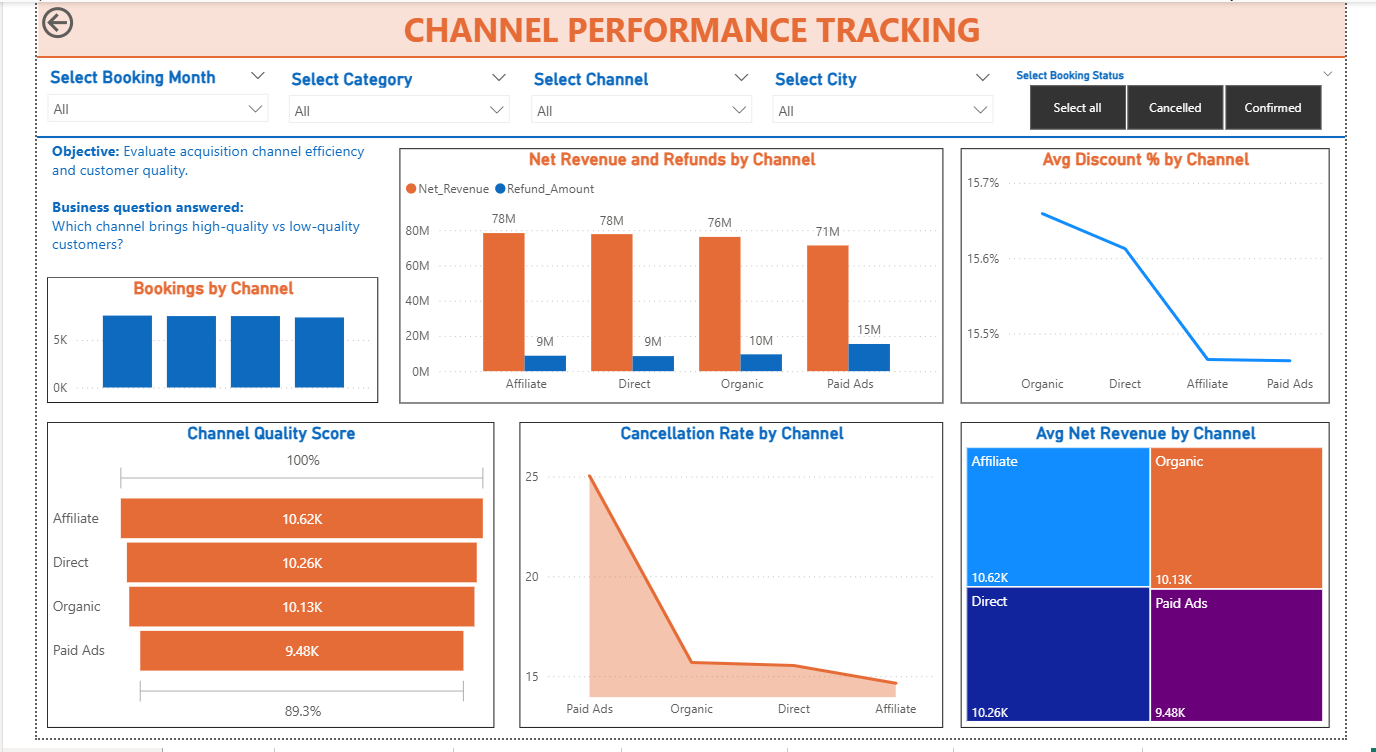

This screenshot's page, from the dashboard's own definition file:
{"tool":"powerbi","page":{"name":"Channel Analysis","canvas":[1280,720],"ordinal":3},"visuals":[{"type":"textbox","box":[1.2,0,1279.1,53.8],"z":0},{"type":"clusteredColumnChart","title":"Net Revenue and Refunds by Channel","fields":{"Category":["Bookings_Data.Channel"],"Y":["Sum(Bookings_Data.Net_Revenue)","Sum(Bookings_Data.Refund_Amount)"]},"box":[354.6,143.1,531.9,249.5],"z":1000},{"type":"columnChart","title":"Bookings by Channel","fields":{"Y":["CountNonNull(Bookings_Data.Booking_ID)"],"Category":["Bookings_Data.Channel"]},"box":[9.8,269,324.1,123.5],"z":2000},{"type":"stackedAreaChart","fields":{"Y":["Bookings_Data.Cancellation Rate"],"Category":["Bookings_Data.Channel"]},"box":[472,410.9,414.5,299.6],"z":3000},{"type":"treemap","title":"Avg Net Revenue by Channel","fields":{"Group":["Bookings_Data.Channel"],"Values":["Avg(Bookings_Data.Net_Revenue)"]},"box":[903.7,410.9,360.7,299.6],"z":4000},{"type":"lineChart","title":"Avg Discount % by Channel","fields":{"Category":["Bookings_Data.Channel"],"Y":["Avg(Bookings_Data.Discount_%)"]},"box":[903.7,143.1,360.7,249.5],"z":5000},{"type":"textbox","box":[9.8,130.8,324.1,138.2],"z":6000},{"type":"slicer","fields":{"Values":["Bookings_Data.Booking_Date.Variation.Date Hierarchy.Month"]},"box":[0,58.7,236,72.1],"z":7000},{"type":"slicer","fields":{"Values":["Bookings_Data.Category"]},"box":[236,59.9,236,72.1],"z":8000},{"type":"slicer","fields":{"Values":["Bookings_Data.Channel"]},"box":[473.2,59.9,236,72.1],"z":9000},{"type":"slicer","fields":{"Values":["Bookings_Data.City"]},"box":[709.2,59.9,236,72.1],"z":10000},{"type":"slicer","fields":{"Values":["Bookings_Data.Booking_Status"]},"box":[945.2,59.9,335.1,72.1],"z":11000},{"type":"actionButton","box":[0,0,40.4,40.4],"z":12000},{"type":"shape","box":[0,48.9,1280.3,9.8],"z":13000},{"type":"funnel","title":"Channel Quality Score","fields":{"Category":["Bookings_Data.Channel"],"Y":["Bookings_Data.Channel Quality Score"]},"box":[9.8,410.9,437.8,299.6],"z":14000},{"type":"shape","box":[0,121.1,1280.3,22],"z":15000}]}

Visuals, with their boxes in screenshot pixels (x1, y1, x2, y2), scaled from the page's 1280x720 canvas onto the 1376x752 screenshot:
textbox: (left=1, top=0, right=1375, bottom=56)
"Net Revenue and Refunds by Channel" clusteredColumnChart: (left=381, top=149, right=953, bottom=410)
"Bookings by Channel" columnChart: (left=11, top=281, right=359, bottom=410)
stackedAreaChart - Bookings_Data.Cancellation Rate x Bookings_Data.Channel: (left=507, top=429, right=953, bottom=742)
"Avg Net Revenue by Channel" treemap: (left=971, top=429, right=1359, bottom=742)
"Avg Discount % by Channel" lineChart: (left=971, top=149, right=1359, bottom=410)
textbox: (left=11, top=137, right=359, bottom=281)
slicer - Bookings_Data.Booking_Date.Variation.Date Hierarchy.Month: (left=0, top=61, right=254, bottom=137)
slicer - Bookings_Data.Category: (left=254, top=63, right=507, bottom=138)
slicer - Bookings_Data.Channel: (left=509, top=63, right=762, bottom=138)
slicer - Bookings_Data.City: (left=762, top=63, right=1016, bottom=138)
slicer - Bookings_Data.Booking_Status: (left=1016, top=63, right=1375, bottom=138)
actionButton: (left=0, top=0, right=43, bottom=42)
shape: (left=0, top=51, right=1375, bottom=61)
"Channel Quality Score" funnel: (left=11, top=429, right=481, bottom=742)
shape: (left=0, top=126, right=1375, bottom=149)
